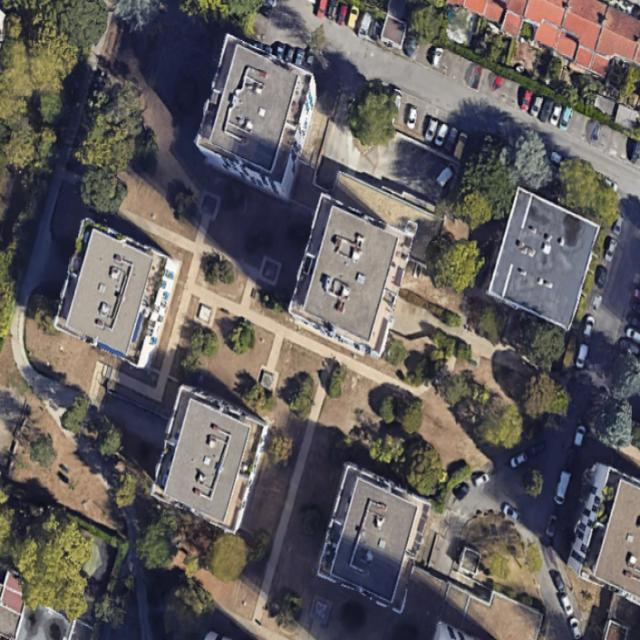immeuble: (185, 33, 328, 200), (40, 219, 193, 371), (280, 195, 422, 358), (474, 187, 612, 330), (144, 385, 275, 533), (311, 463, 434, 612)
